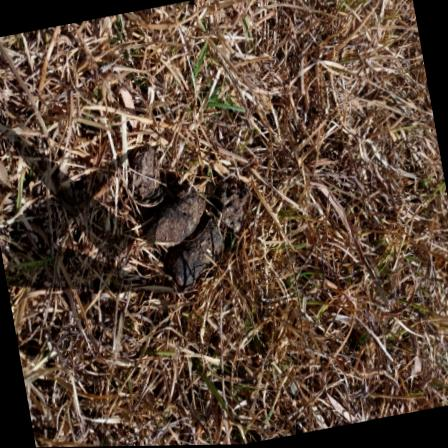dog-poop: (128, 142, 258, 285)
